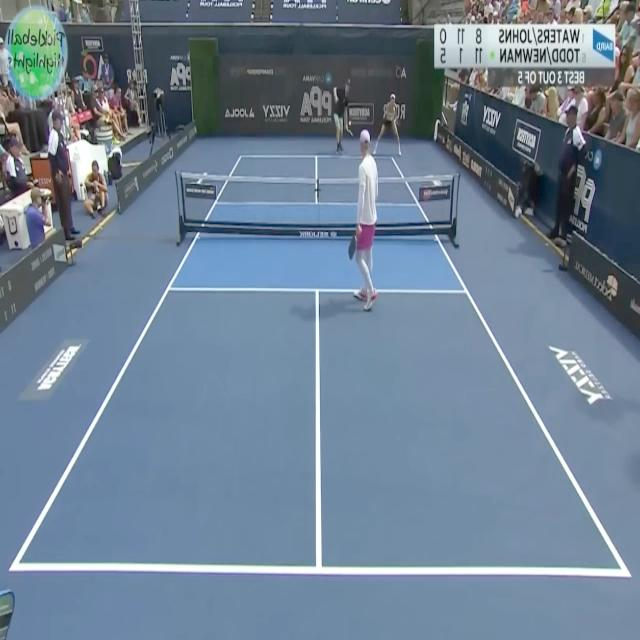Pickleball: (346, 119, 352, 129)
